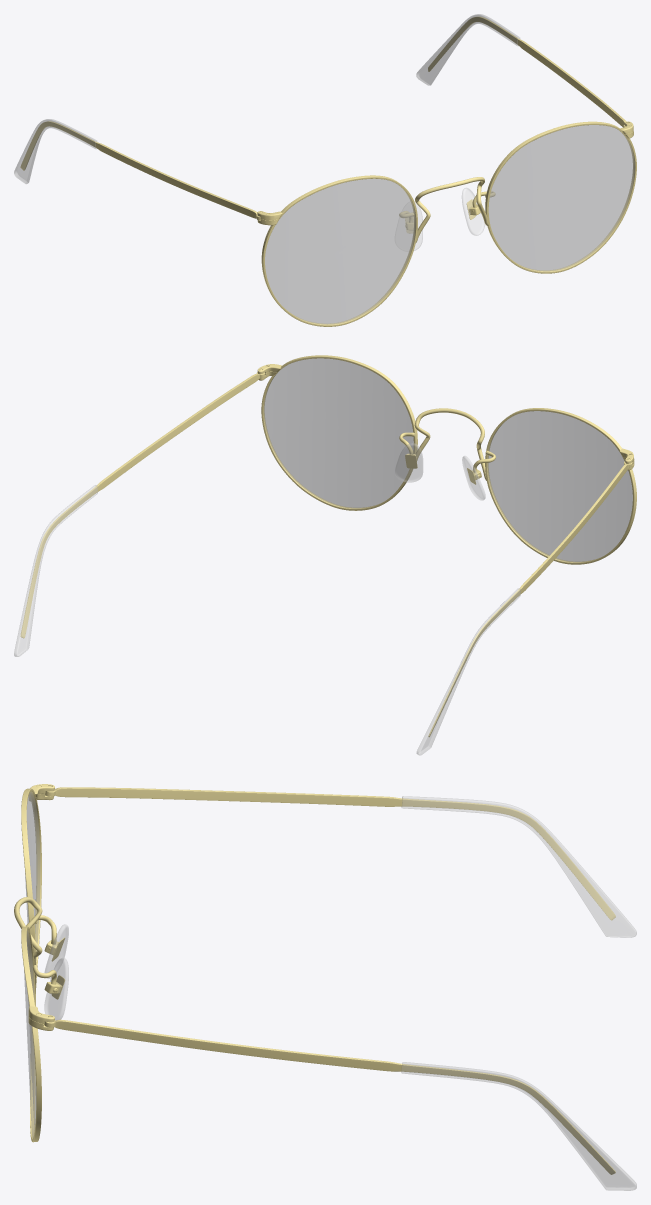
Rendered from glasses-6.glb.
3 renders of one model, top to bottom at view 1: azimuth 30°, elevation 25°; view 2: azimuth 150°, elevation 25°; view 3: azimuth 270°, elevation 25°, orthographic. The views are drawn at different scales.
Visible parts, largest first — view 1: Object_4, Object_8, Object_2, Object_3, Object_6, Object_7; view 2: Object_4, Object_8, Object_2, Object_3, Object_6; view 3: Object_2, Object_3, Object_8, Object_4, Object_6, Object_7.
Part boxes in pixels (left/top/right/bottom): Object_4: left=265, top=125, right=634, bottom=324; Object_8: left=259, top=121, right=636, bottom=326; Object_2: left=20, top=16, right=626, bottom=220; Object_3: left=14, top=14, right=520, bottom=183; Object_6: left=395, top=188, right=484, bottom=251; Object_7: left=257, top=121, right=633, bottom=225; Object_4: left=264, top=358, right=632, bottom=562; Object_8: left=259, top=355, right=636, bottom=564; Object_2: left=20, top=372, right=632, bottom=736; Object_3: left=14, top=485, right=520, bottom=755; Object_6: left=395, top=443, right=485, bottom=500; Object_2: left=44, top=787, right=615, bottom=1174; Object_3: left=401, top=796, right=636, bottom=1190; Object_8: left=14, top=785, right=56, bottom=1142; Object_4: left=24, top=792, right=39, bottom=1137; Object_6: left=44, top=924, right=68, bottom=1020; Object_7: left=28, top=784, right=54, bottom=1030.
Bounding box in the file's own units: 9.71 × 3.17 × 9.4.
